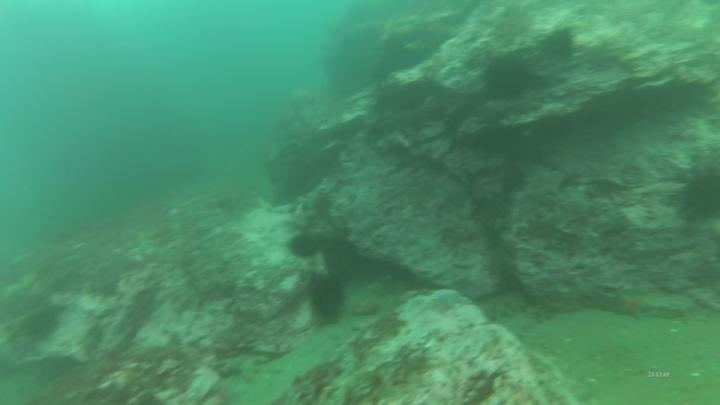echinus: (673, 163, 720, 226), (481, 52, 535, 102), (306, 272, 349, 325), (319, 235, 362, 281), (20, 304, 63, 344), (537, 26, 578, 63), (286, 230, 323, 262)
starfish: (609, 286, 655, 322), (434, 176, 474, 210), (426, 287, 469, 315)
